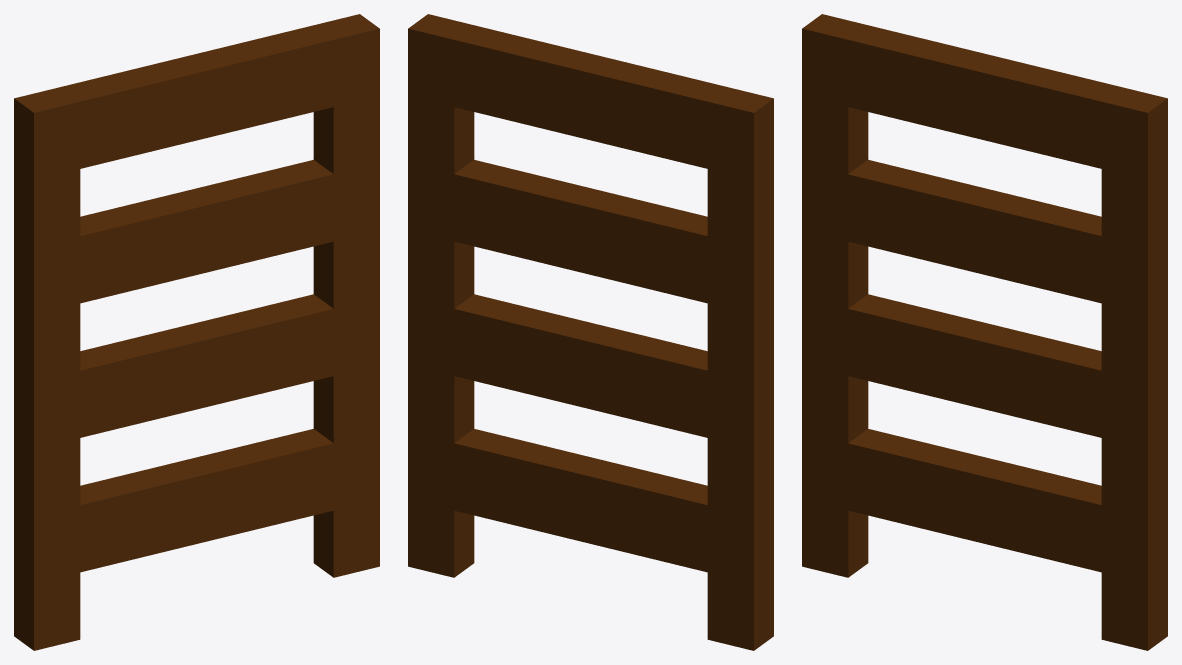
Rendered from door2.obj.
3 views of the same model, side by side, from view 1: azimuth 30°, elevation 25°; view 2: azimuth 150°, elevation 25°; view 3: azimuth 330°, elevation 25° (orthographic).
Parts seen in each view (by area): view 1: Ladder.007; view 2: Ladder.007; view 3: Ladder.007.
Part boxes in pixels (x1=…): Ladder.007: x1=14, y1=14, x2=379, y2=650; Ladder.007: x1=408, y1=14, x2=773, y2=650; Ladder.007: x1=802, y1=14, x2=1167, y2=650.
Size of the model in its own units: 2 by 2.97 by 0.2001.
Materials: 1 (1 with a texture image).
